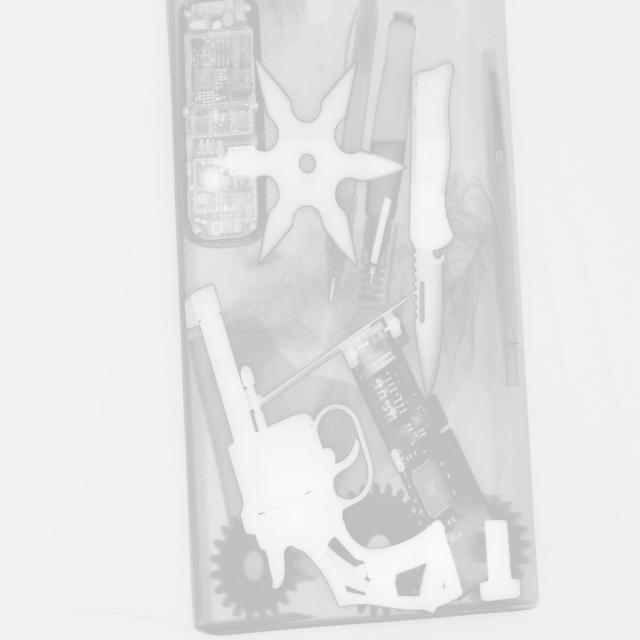knife: (409, 57, 463, 390)
pistol: (185, 286, 461, 612)
